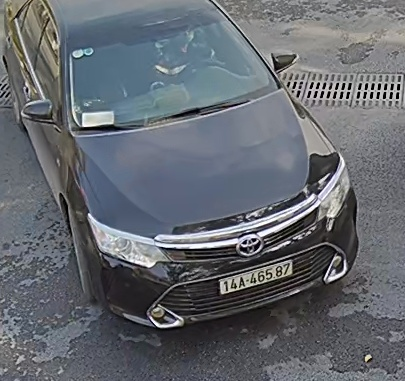vehicle plate: (217, 259, 296, 294)
